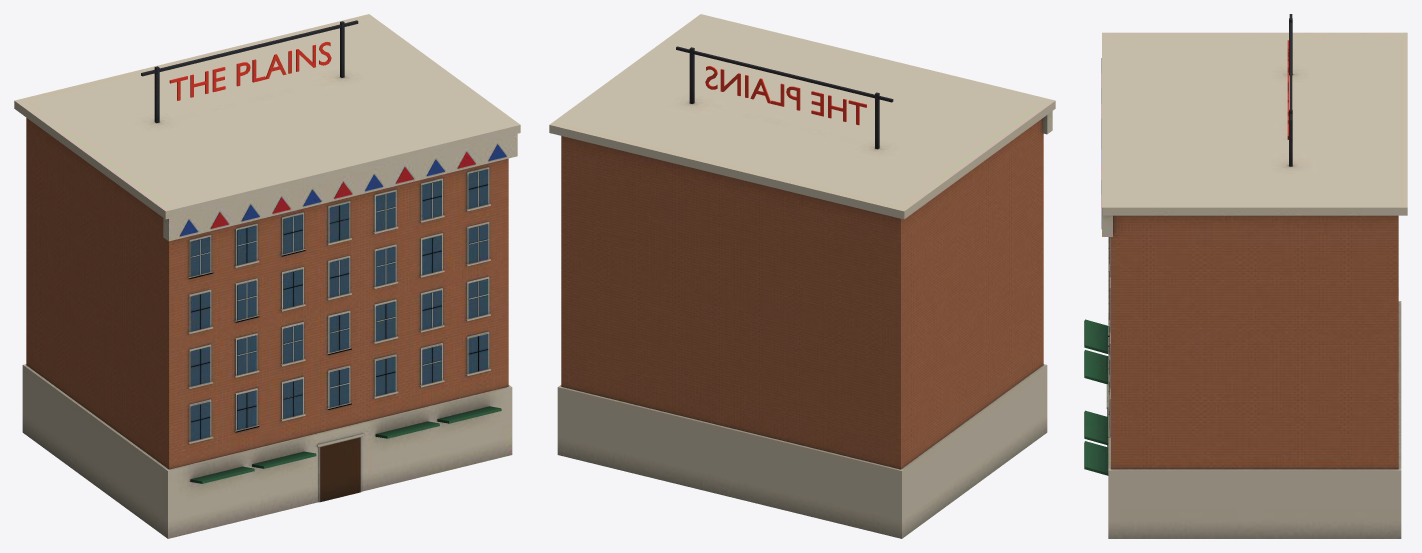
Rendered from plains_hotel.glb.
3 views of the same model, side by side, from view 1: azimuth 30°, elevation 25°; view 2: azimuth 150°, elevation 25°; view 3: azimuth 270°, elevation 25° (orthographic).
Parts seen in each view (by area): view 1: plains_hotel; view 2: plains_hotel; view 3: plains_hotel.
Part boxes in pixels (x1,y1,x2,y2): plains_hotel: [14, 14, 520, 538]; plains_hotel: [549, 14, 1055, 538]; plains_hotel: [1084, 14, 1407, 538].
Size of the model in its own units: 23 by 23.9 by 17.99.
1 material, 1 textured.
